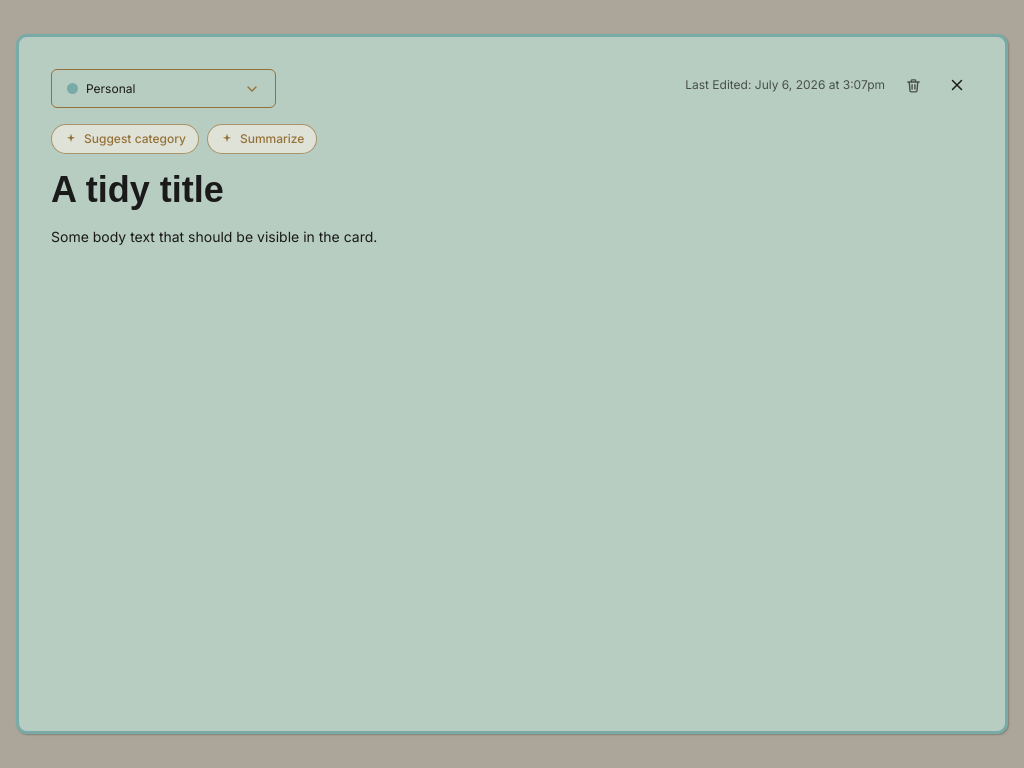
Test case: NoteEditor › applies the AI category suggestion even from the keyword heuristic (available:false)
Click the button "Suggest category".
click(125, 139)  # box [51, 124, 199, 154]
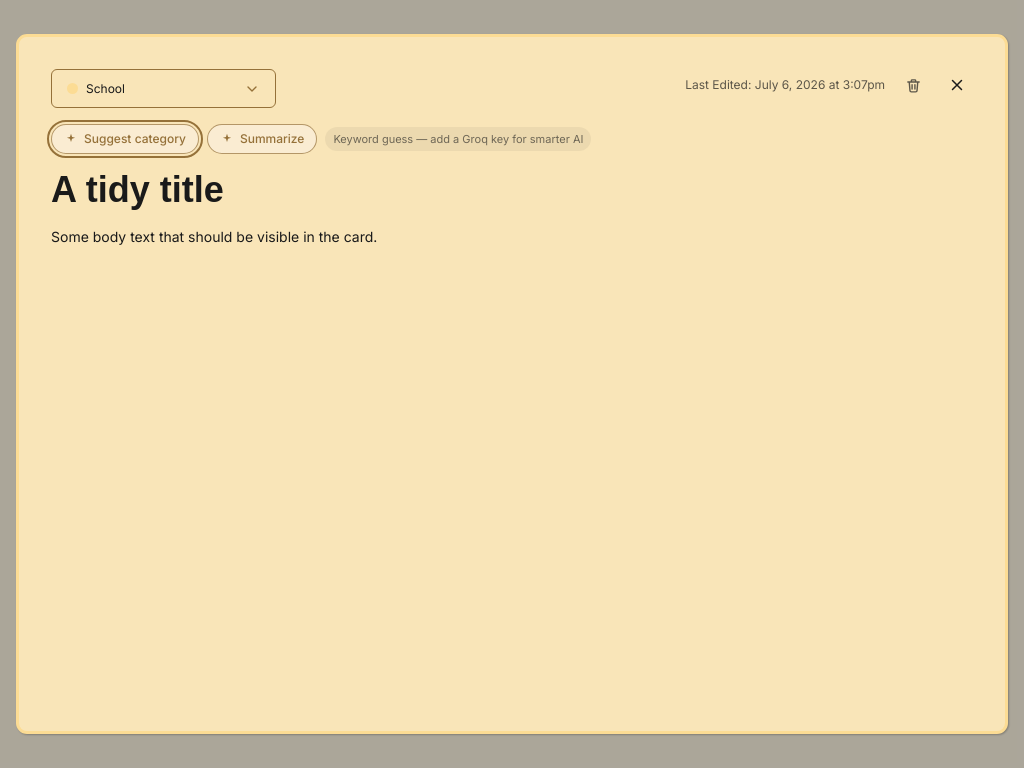
Check: the text "Keyword guess — add a Groq key for smarter AI" is shown, box [325, 127, 591, 151]
